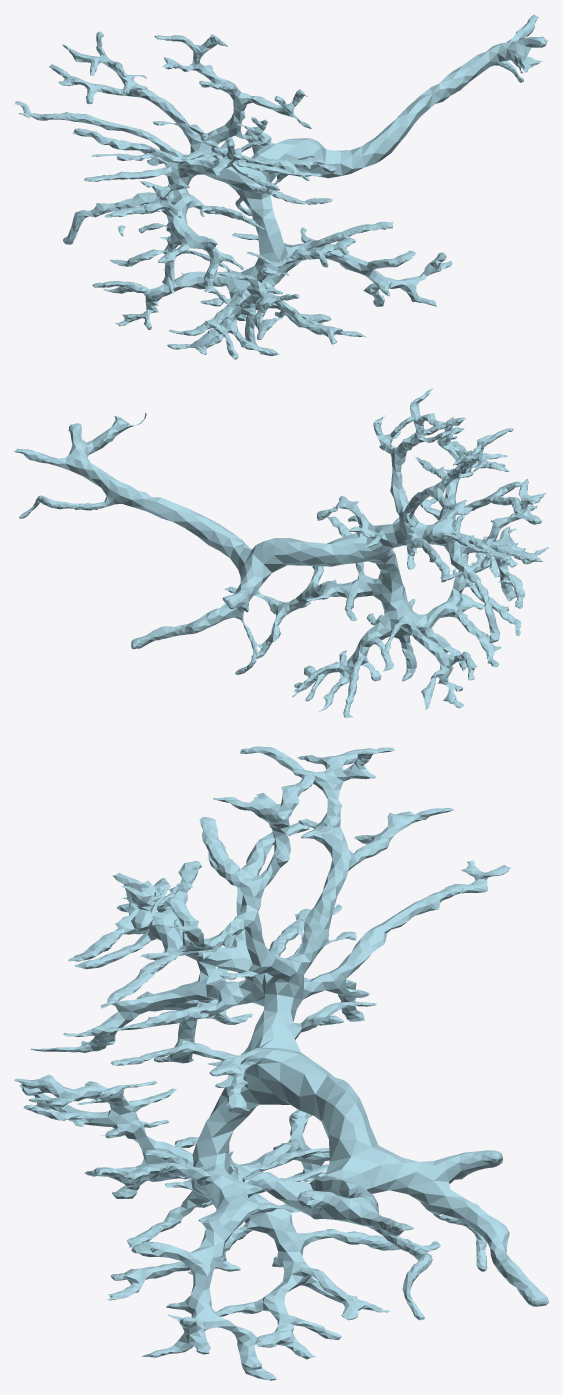
The model's file is portalvein.obj.
The picture shows the model from 3 angles, top to bottom: view 1: azimuth 30°, elevation 25°; view 2: azimuth 150°, elevation 25°; view 3: azimuth 270°, elevation 25°; orthographic projection. The views are drawn at different scales.
Parts seen in each view (by area): view 1: grp1; view 2: grp1; view 3: grp1.
Boxes of the visible parts, x1,y1,x2,y2 form: grp1: (14,14,548,359); grp1: (14,388,548,717); grp1: (14,746,548,1380).
Bounding box in the file's own units: 248 × 154 × 155.
